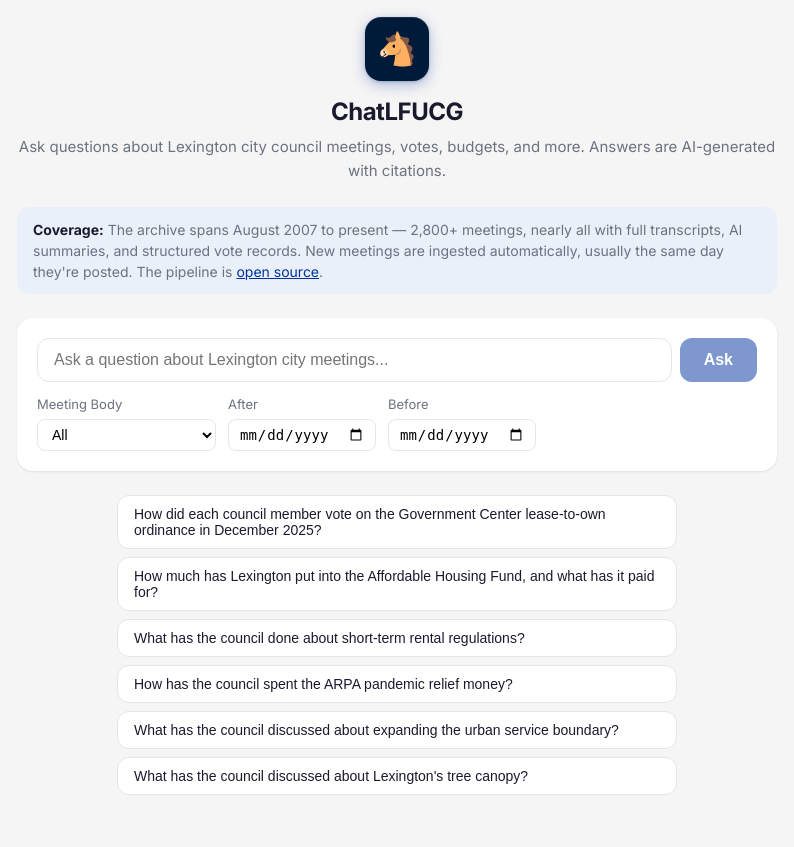
Test case: AskQuestion › renders cited sources prominently and collapses uncited ones
Type "test question" into the field with placeholder "Ask a question about Lexington city meetings...". click: (354, 360)
box: [37,338,672,382]
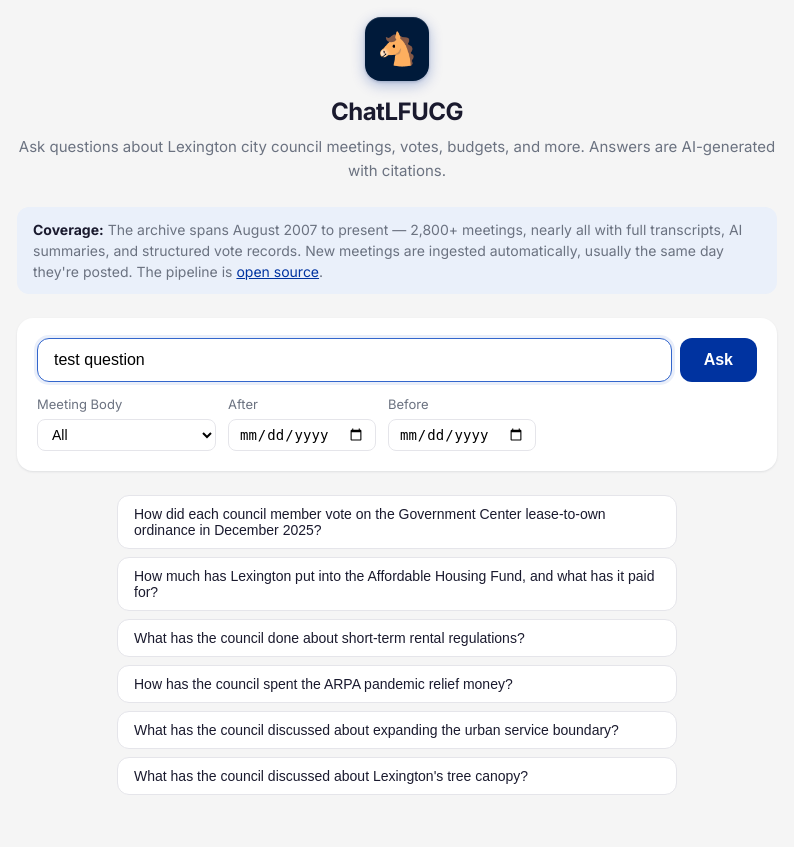
Click the button "Ask". click: (718, 360)
box: [680,338,757,382]
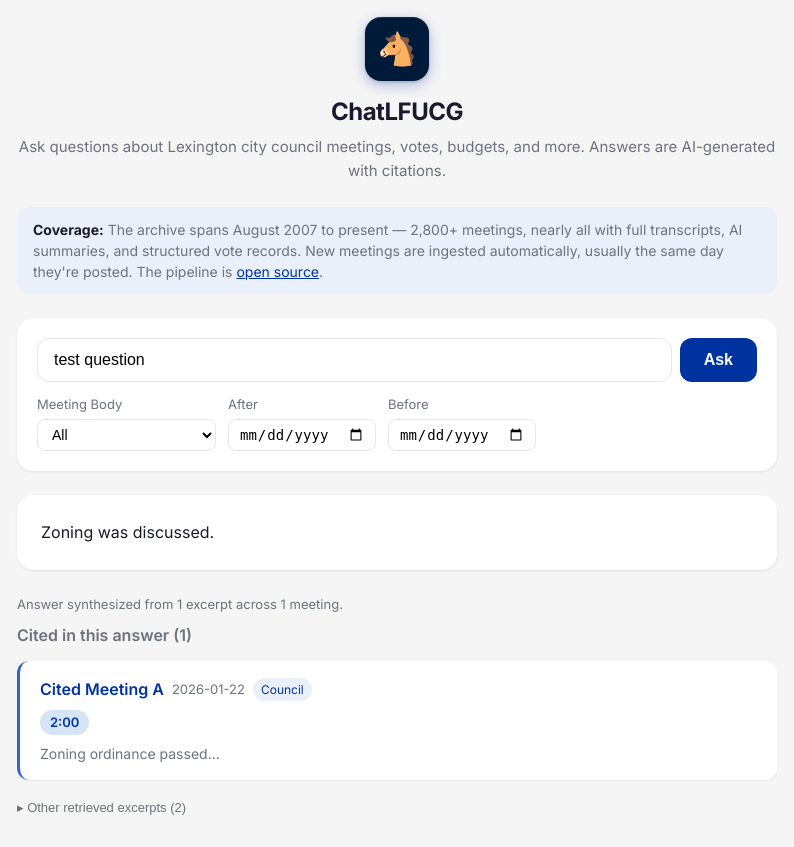
Expected: the text "Uncited Meeting B" is not shown
Expected: the heading "Cited in this answer (1)" is shown, [17,625,192,645]
Expected: the link "Cited Meeting A" is shown, [40,677,164,702]
Click the button "▸ Other retrieved excerpts (2)". click: (102, 808)
box: [17,796,186,819]
(page scrolled)
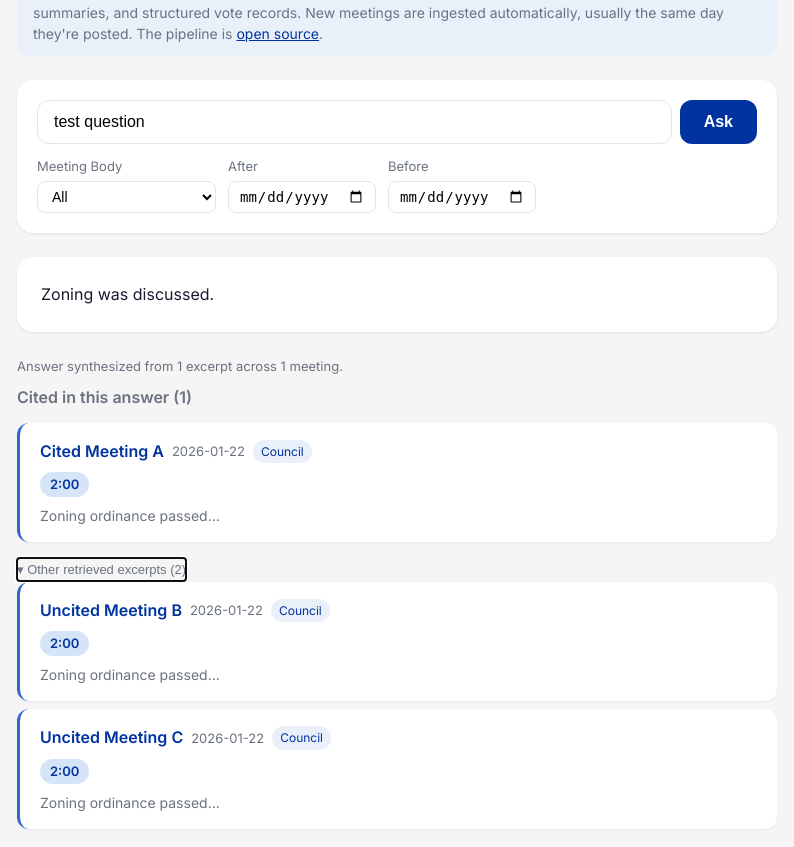
Expected: the link "Uncited Meeting B" is shown, [40,598,182,623]
Expected: the link "Uncited Meeting C" is shown, [40,725,183,751]
